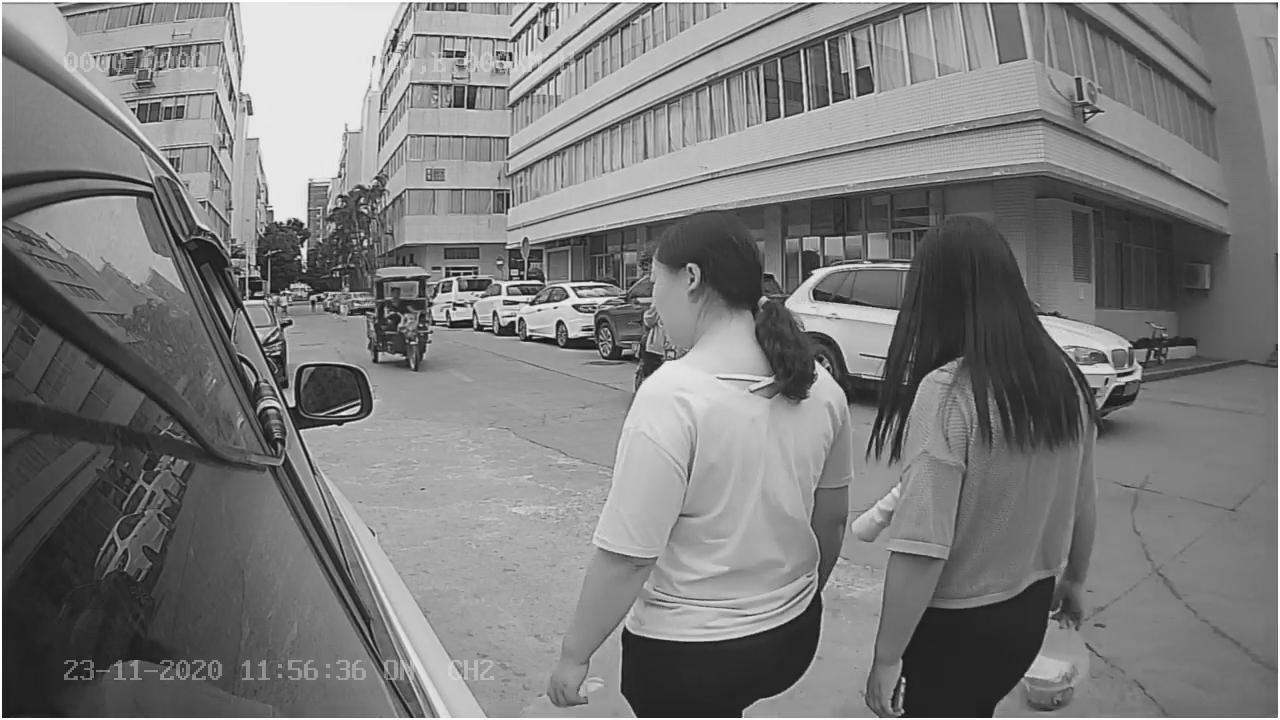person: (533, 207, 857, 717), (860, 212, 1113, 718)
